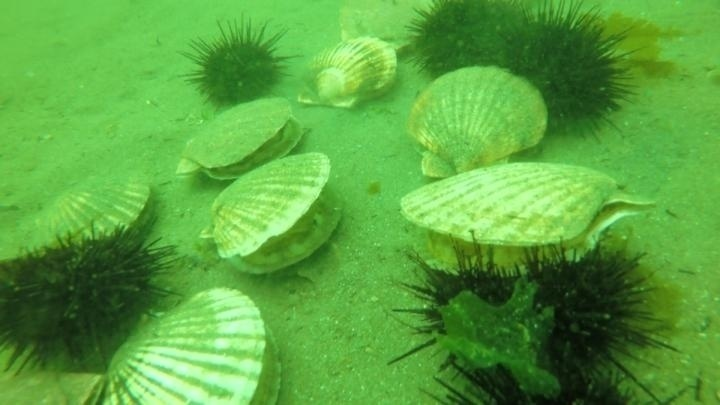echinus: (388, 233, 567, 397), (1, 216, 179, 375), (497, 237, 673, 394), (493, 3, 640, 144), (180, 16, 297, 114), (403, 1, 518, 82), (427, 349, 564, 404), (554, 365, 645, 405)
scallop: (398, 162, 674, 272), (102, 283, 275, 404), (203, 151, 346, 281), (403, 64, 552, 184), (2, 169, 158, 267), (177, 96, 308, 186), (294, 31, 403, 114), (334, 1, 428, 52), (597, 2, 703, 44)
